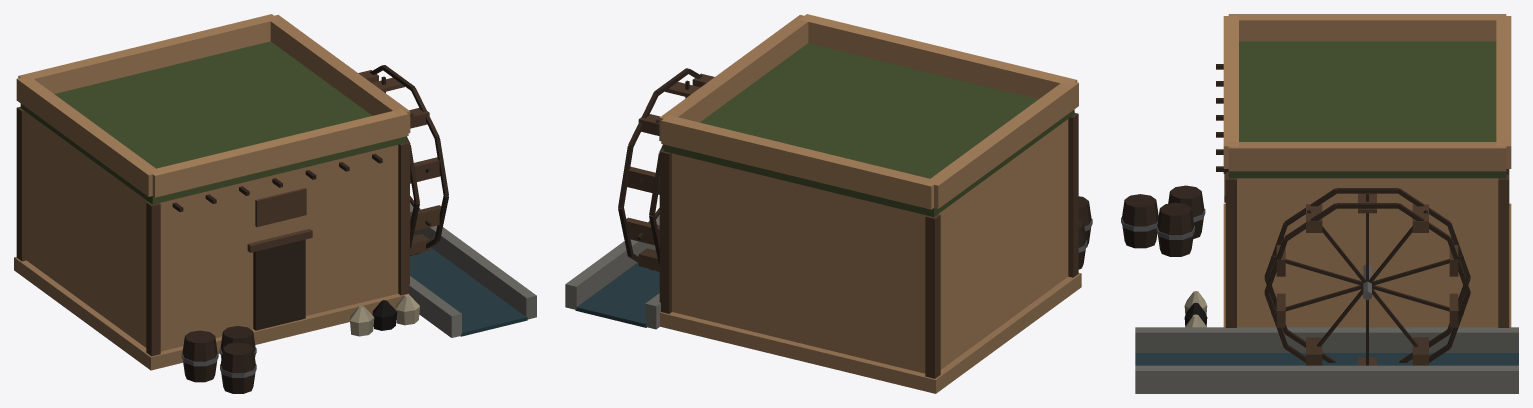
The model's file is walk_steppe_mill.glb.
3 views of the same model, side by side, from view 1: azimuth 30°, elevation 25°; view 2: azimuth 150°, elevation 25°; view 3: azimuth 270°, elevation 25° (orthographic). The views are drawn at different scales.
Parts seen in each view (by area): view 1: walk_steppe_mill, walk_steppe_mill_roof; view 2: walk_steppe_mill, walk_steppe_mill_roof; view 3: walk_steppe_mill, walk_steppe_mill_roof.
Boxes of the visible parts, left/top/right/bottom form: walk_steppe_mill: left=14, top=65, right=536, bottom=393; walk_steppe_mill_roof: left=16, top=14, right=410, bottom=204; walk_steppe_mill: left=565, top=68, right=1092, bottom=393; walk_steppe_mill_roof: left=659, top=14, right=1078, bottom=216; walk_steppe_mill: left=1121, top=64, right=1518, bottom=393; walk_steppe_mill_roof: left=1223, top=14, right=1511, bottom=178.
Size of what is drawn, in the model's own units: 8.28 by 4.55 by 7.88.
Materials: 2 (2 with a texture image).
